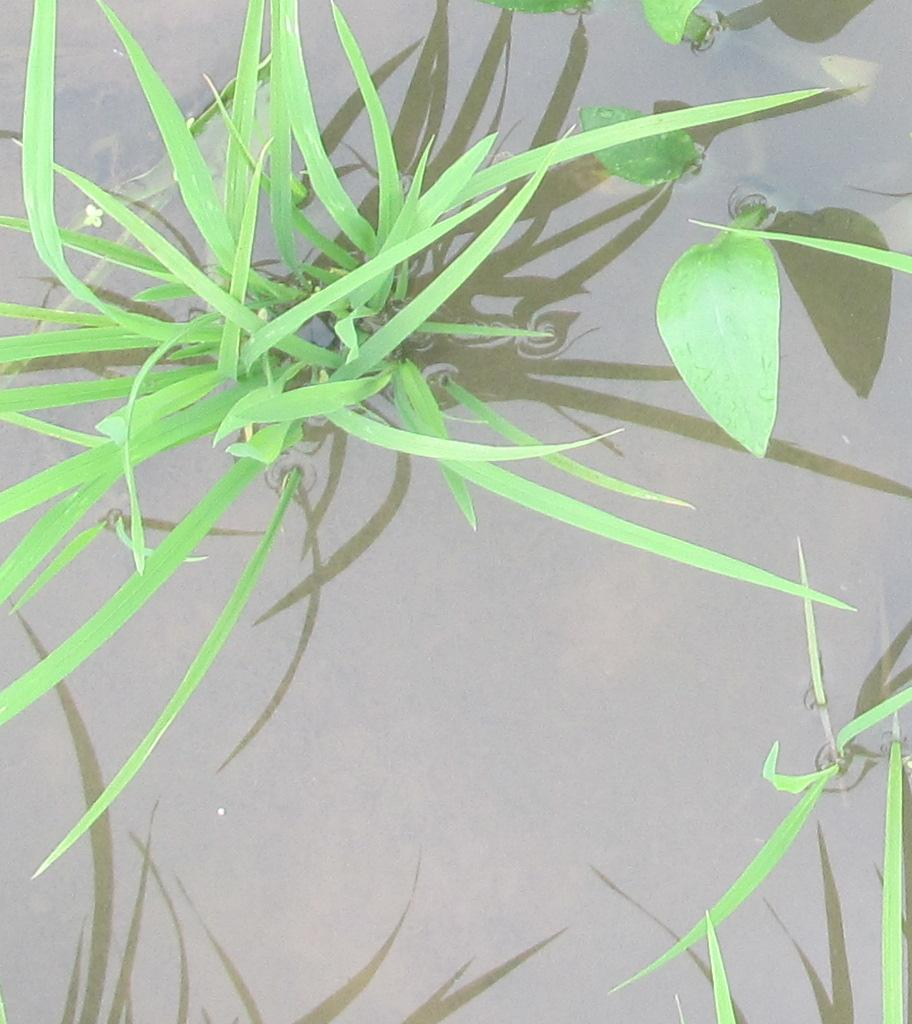Weed: (650, 230, 803, 480)
